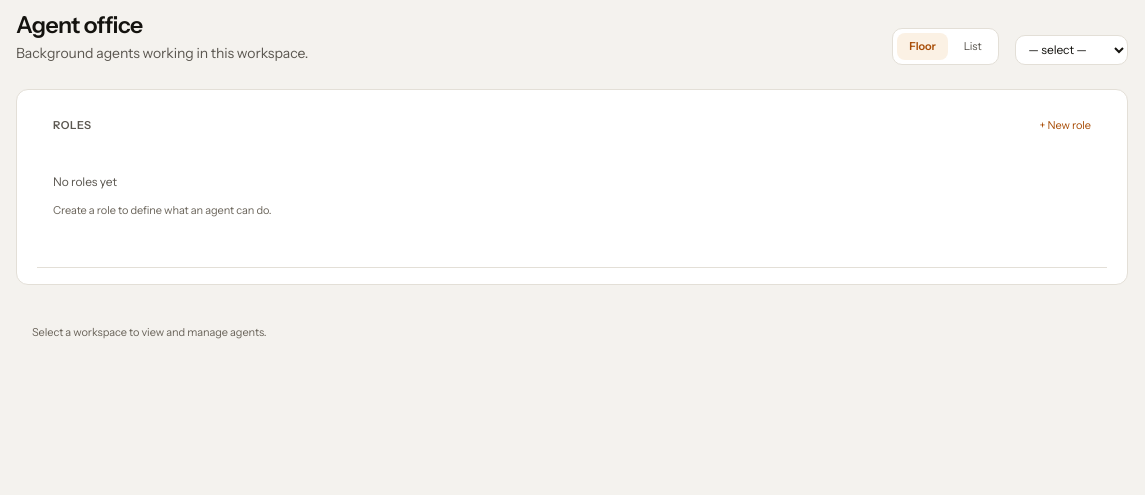
Test: AgentOfficeView › does not let a late wk1 status response overwrite the wk2 board (stale-response race)
Click the button "list" at [973, 47], box [952,33,994,60]
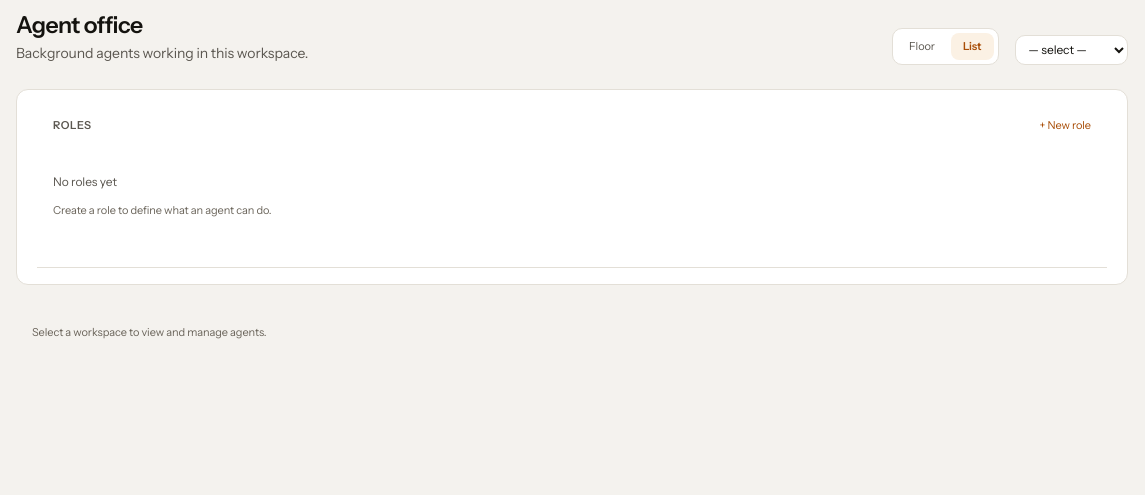
Select "my-project" in the dropdown named "Select workspace" at [1071, 50], box [1014,35,1128,65]
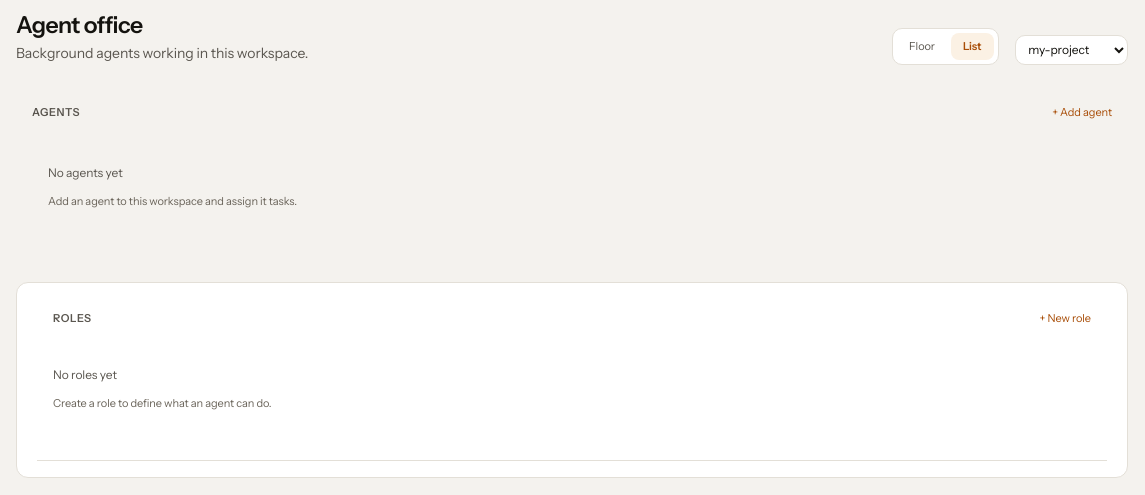
Select "other-project" in the dropdown named "Select workspace" at [1071, 50], box [1014,35,1128,65]
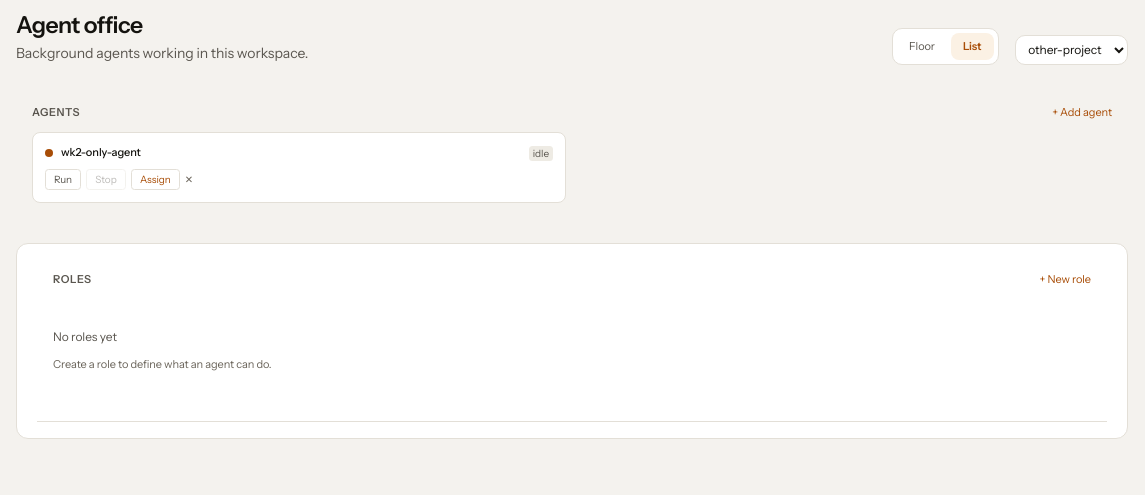
Result: the text "wk2-only-agent" is shown at [61,145,141,159]
